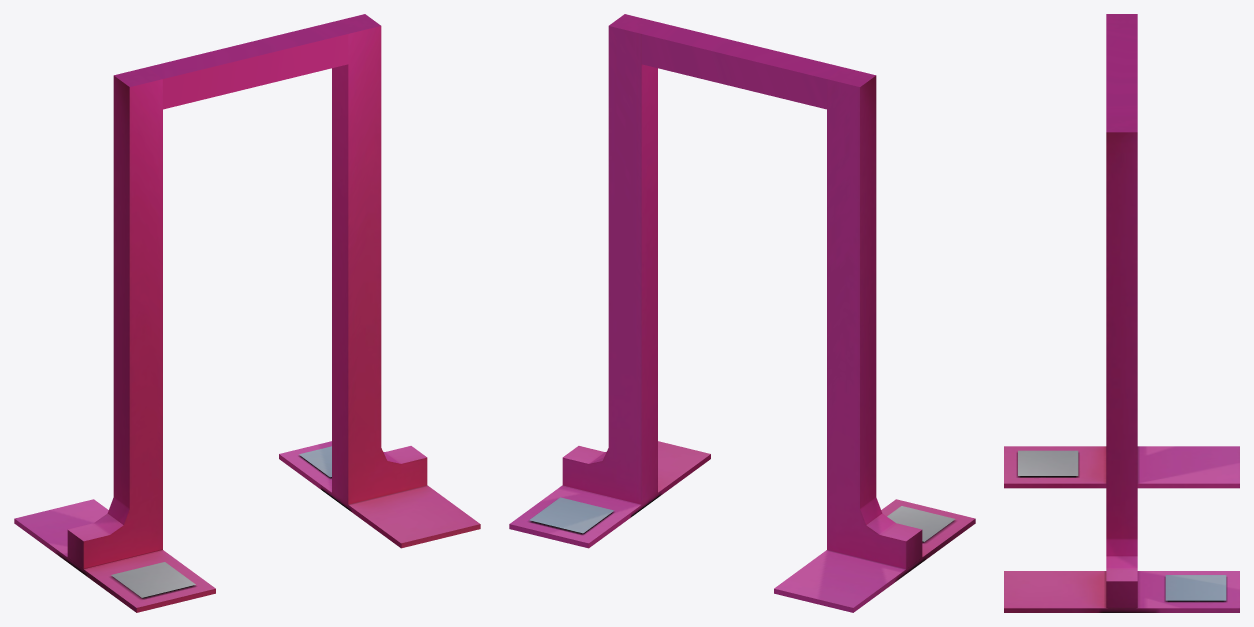
The model's file is TestModel.glb.
The picture shows the model from 3 angles, left to right: view 1: azimuth 30°, elevation 25°; view 2: azimuth 150°, elevation 25°; view 3: azimuth 270°, elevation 25°; orthographic projection. The views are drawn at different scales.
Parts seen in each view (by area): view 1: interior_Baked.001; view 2: interior_Baked.001; view 3: interior_Baked.001.
Part boxes in pixels (bbox=[...]): interior_Baked.001: bbox=[14, 14, 480, 612]; interior_Baked.001: bbox=[509, 14, 975, 612]; interior_Baked.001: bbox=[1004, 14, 1239, 612].
Bounding box in the file's own units: 1.3 × 1.72 × 0.8.
1 material, 1 textured.
